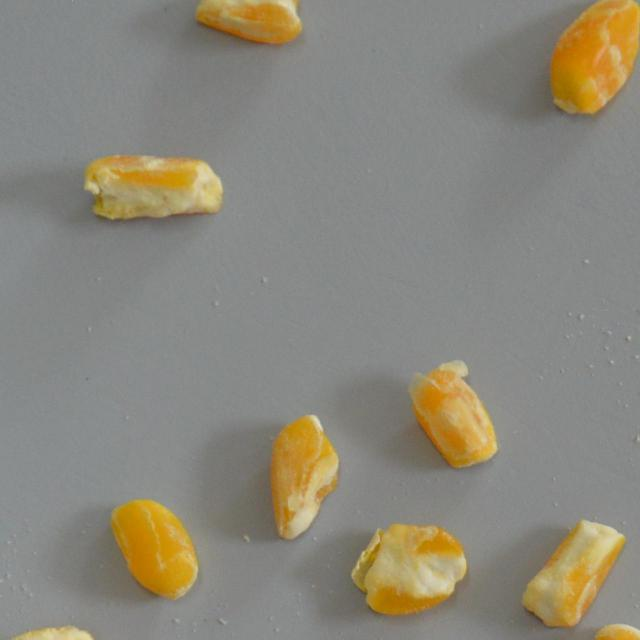pelicula: (349, 519, 465, 618), (544, 0, 640, 116), (520, 516, 617, 630), (405, 358, 502, 472), (82, 153, 226, 223), (108, 498, 200, 600), (269, 412, 341, 538), (194, 0, 304, 46), (0, 622, 106, 640)
